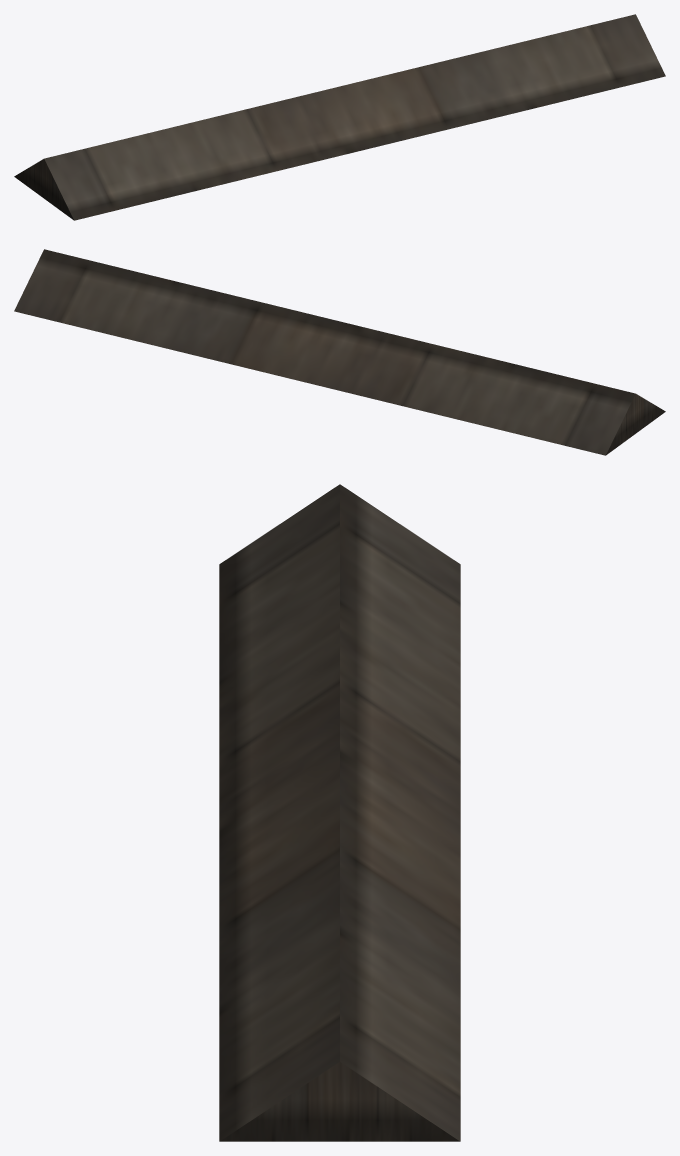
The model's file is house_roof_ridge.glb.
The picture shows the model from 3 angles, top to bottom: view 1: azimuth 30°, elevation 25°; view 2: azimuth 150°, elevation 25°; view 3: azimuth 270°, elevation 25°; orthographic projection. The views are drawn at different scales.
Visible parts, largest first — view 1: outdoor_house_roof_ridge; view 2: outdoor_house_roof_ridge; view 3: outdoor_house_roof_ridge.
Boxes of the visible parts, bbox=[...] form: outdoor_house_roof_ridge: bbox=[14, 14, 665, 220]; outdoor_house_roof_ridge: bbox=[14, 249, 665, 455]; outdoor_house_roof_ridge: bbox=[219, 484, 460, 1141].
Bounding box in the file's own units: 3.4 × 0.22 × 0.6.
Materials: 1 (1 with a texture image).
